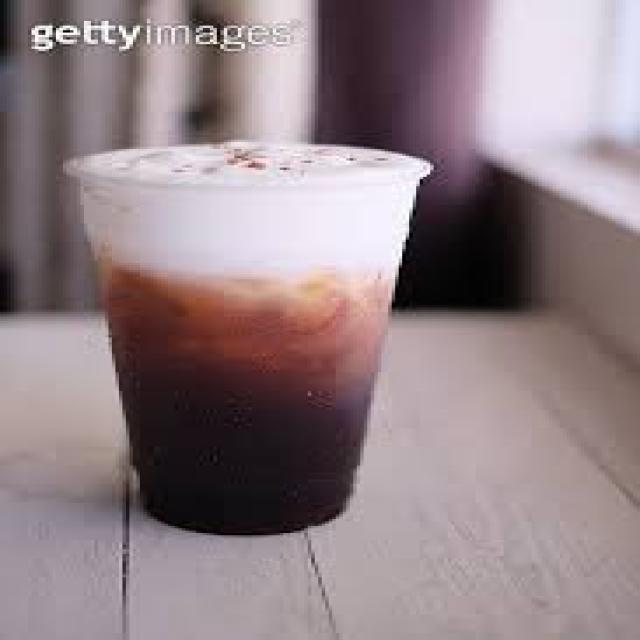bottle: (66, 143, 430, 533)
